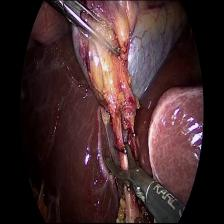Grasper: (68, 0, 122, 64)
Scissors: (103, 132, 148, 204)
